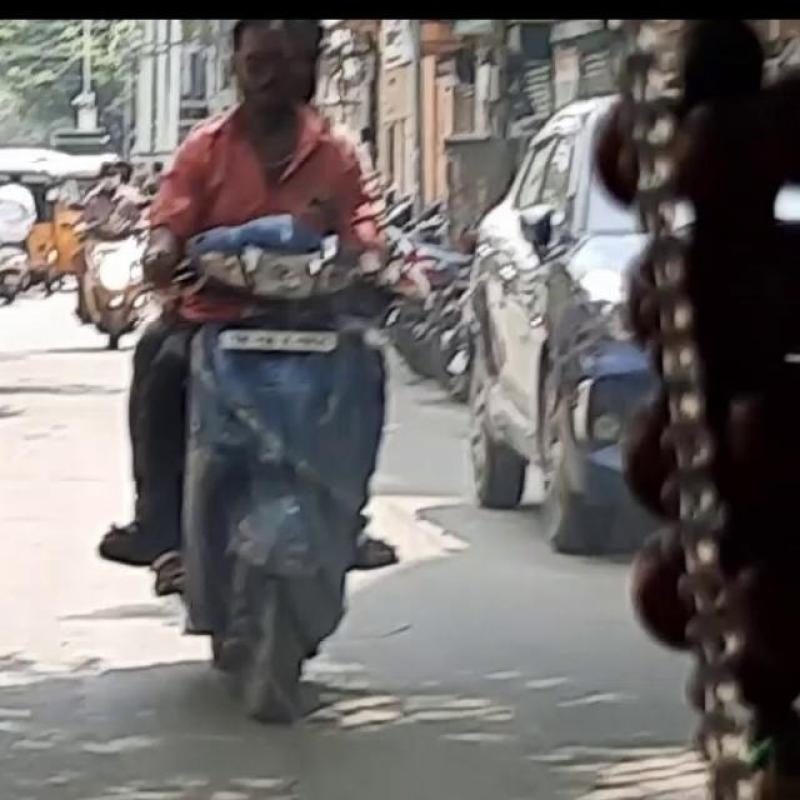nohelmet: (224, 20, 314, 125)
